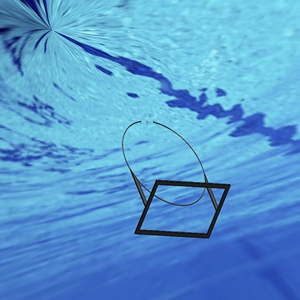circle: (120, 117, 231, 239)
